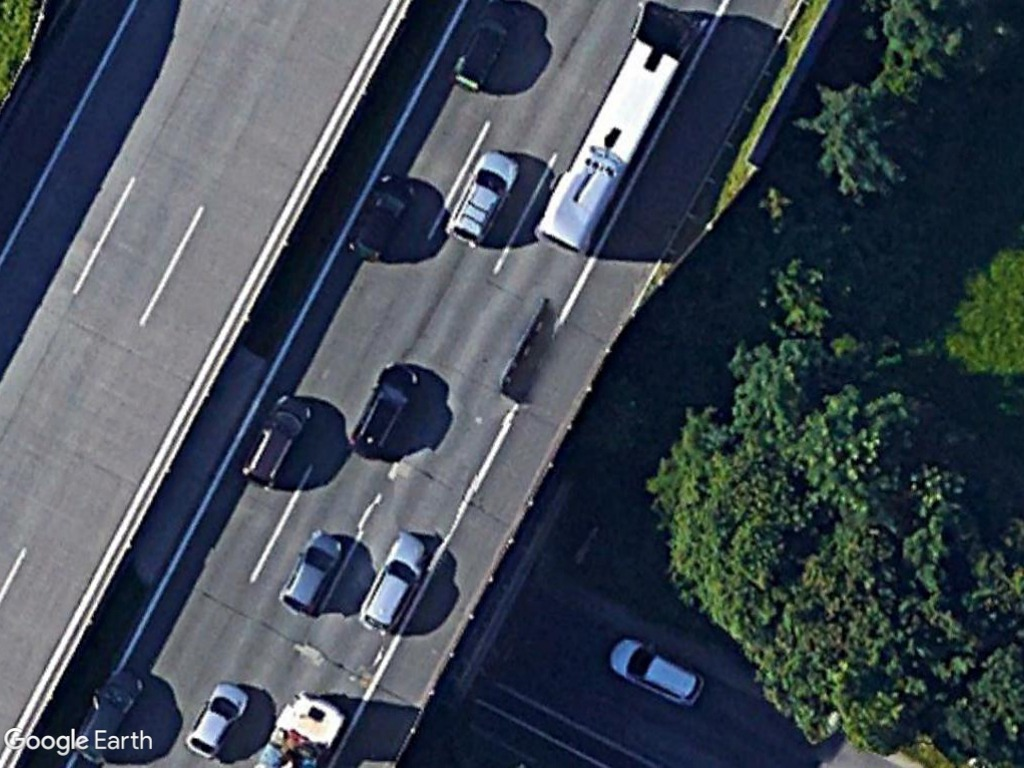bus: (527, 2, 701, 264)
car: (598, 629, 709, 712), (353, 527, 433, 639), (440, 143, 522, 248), (340, 164, 422, 268), (346, 357, 423, 464), (239, 389, 316, 492), (273, 525, 349, 619), (181, 677, 252, 760)
